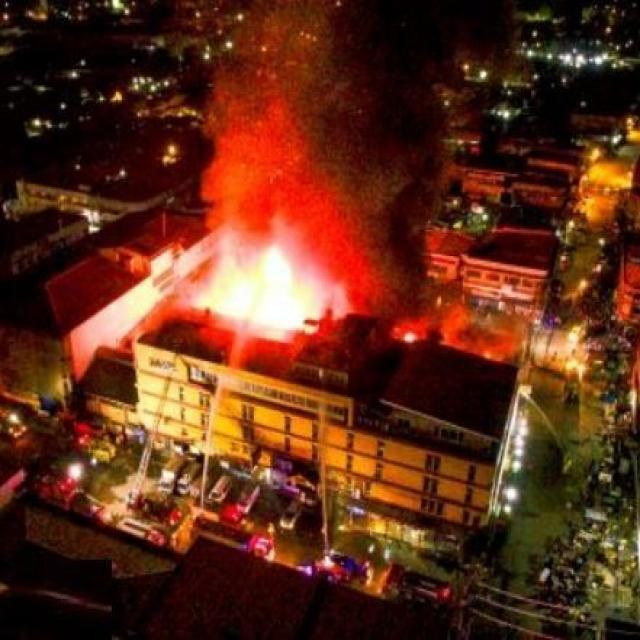Smoke: (241, 0, 450, 289)
